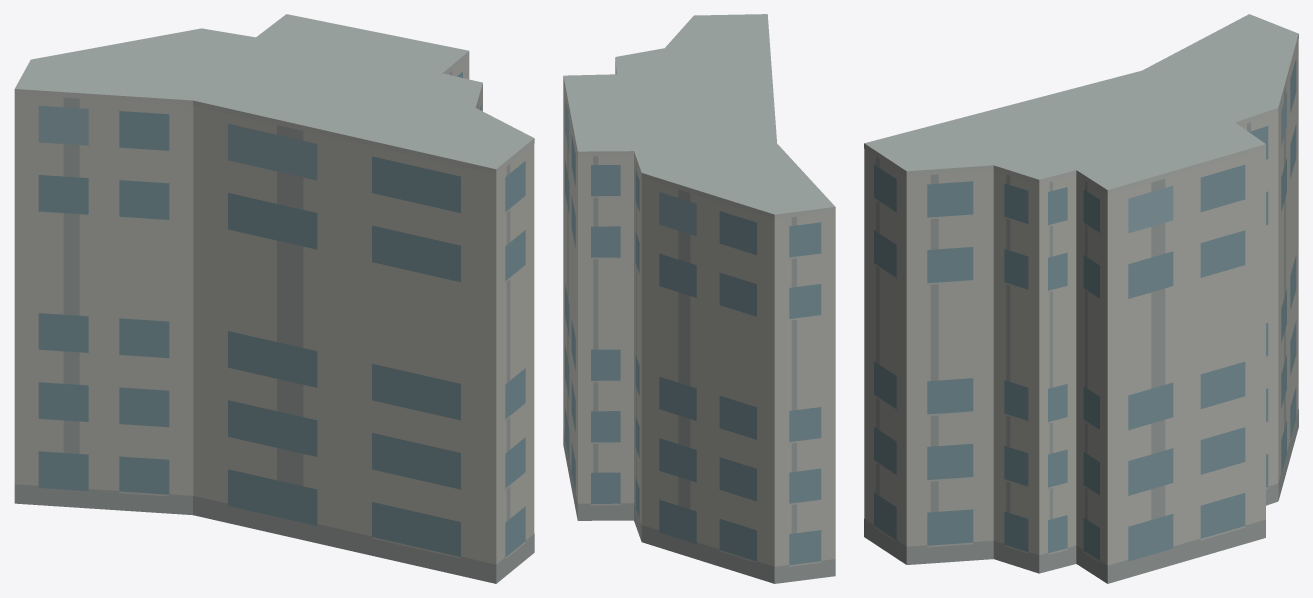
The model's file is residential-04464ada-89f0-498f-bb37-016e00b4118e.glb.
3 views of the same model, side by side, from view 1: azimuth 30°, elevation 25°; view 2: azimuth 150°, elevation 25°; view 3: azimuth 270°, elevation 25° (orthographic). The views are drawn at different scales.
Visible parts, largest first — view 1: residential-04464ada-89f0-498f-bb37-016e00b4118e.tmp; view 2: residential-04464ada-89f0-498f-bb37-016e00b4118e.tmp; view 3: residential-04464ada-89f0-498f-bb37-016e00b4118e.tmp.
Part boxes in pixels (bbox=[...]): residential-04464ada-89f0-498f-bb37-016e00b4118e.tmp: bbox=[14, 14, 534, 583]; residential-04464ada-89f0-498f-bb37-016e00b4118e.tmp: bbox=[563, 14, 835, 583]; residential-04464ada-89f0-498f-bb37-016e00b4118e.tmp: bbox=[864, 14, 1298, 583].
Bounding box in the file's own units: 17.57 × 18.3 × 18.31.
